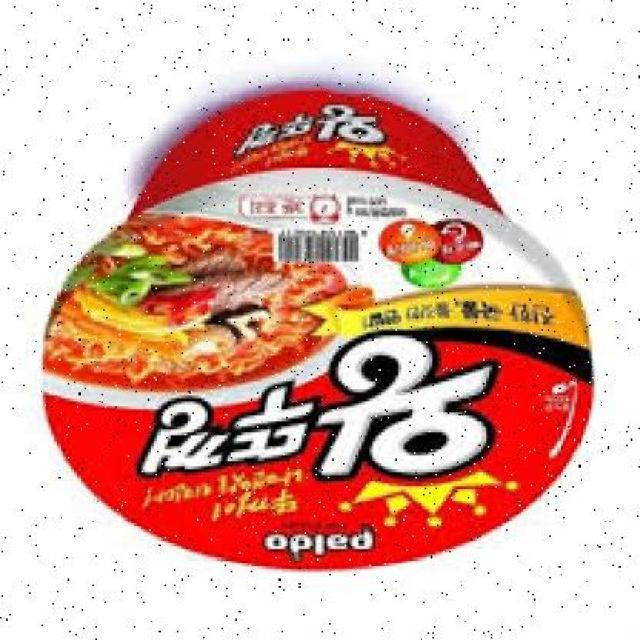Miscellaneous: (43, 77, 600, 574)
